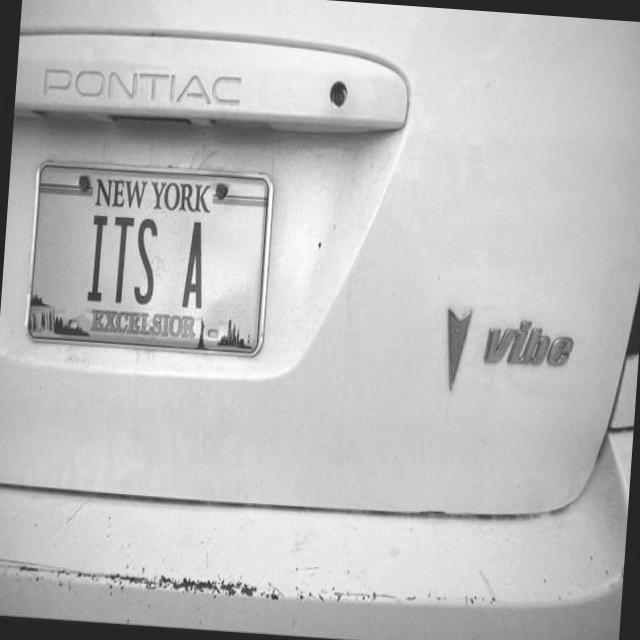LicensePlate: (21, 159, 275, 361)
